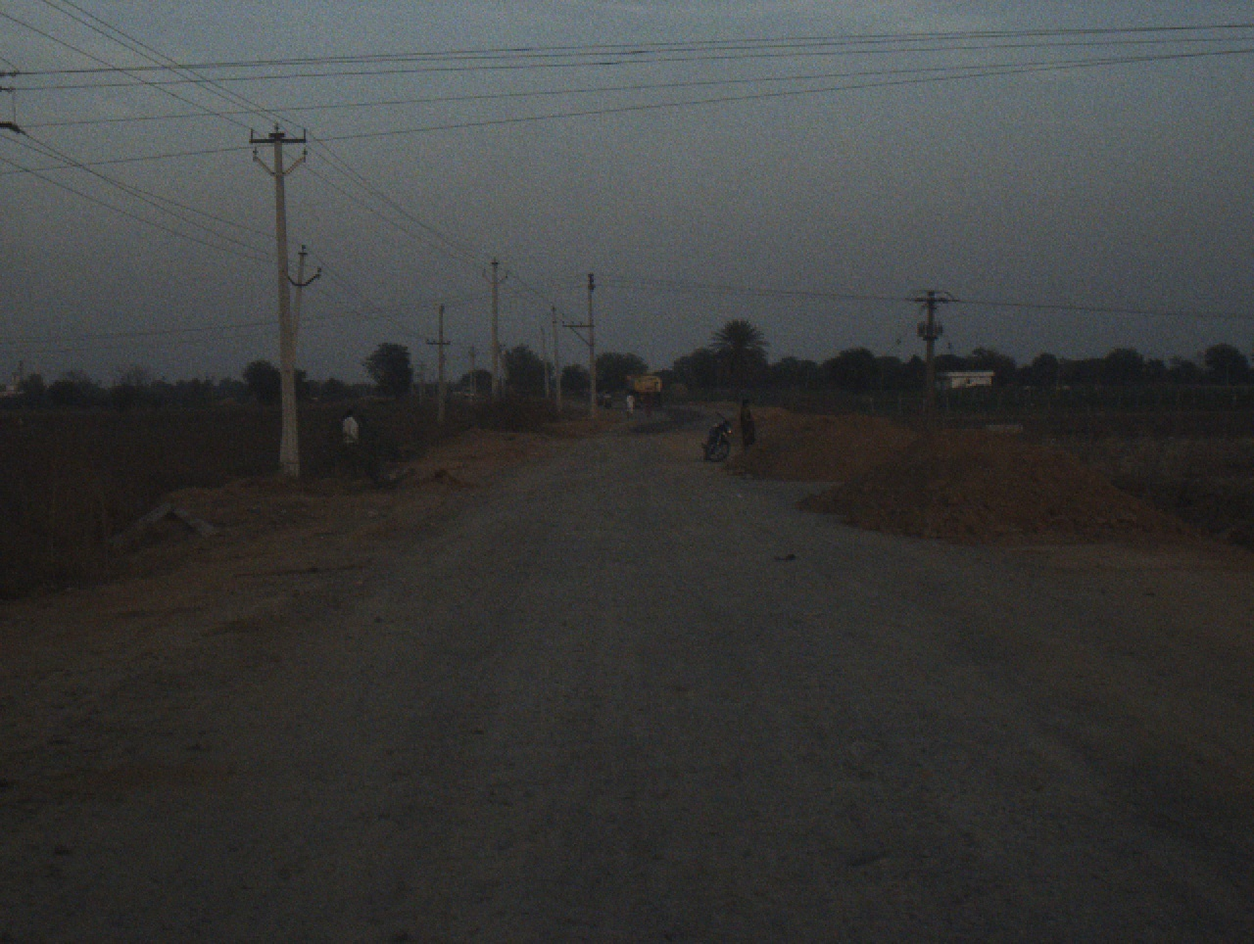motorcycle: (699, 407, 735, 463)
person: (734, 392, 758, 444), (336, 404, 360, 446), (642, 388, 654, 416), (626, 386, 637, 416)
truck: (622, 368, 667, 409)
